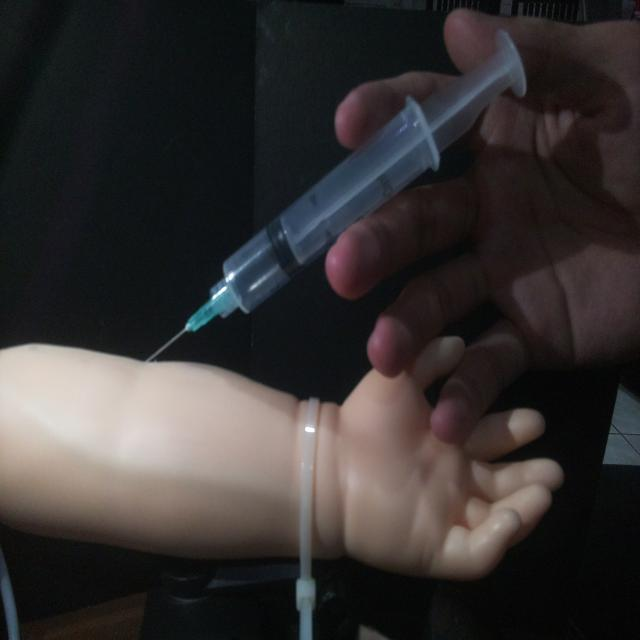25deg: (140, 26, 530, 364)
